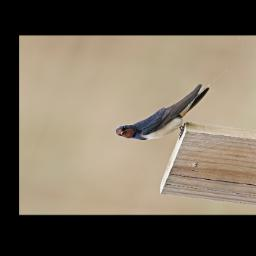Swallow: (110, 56, 230, 148)
